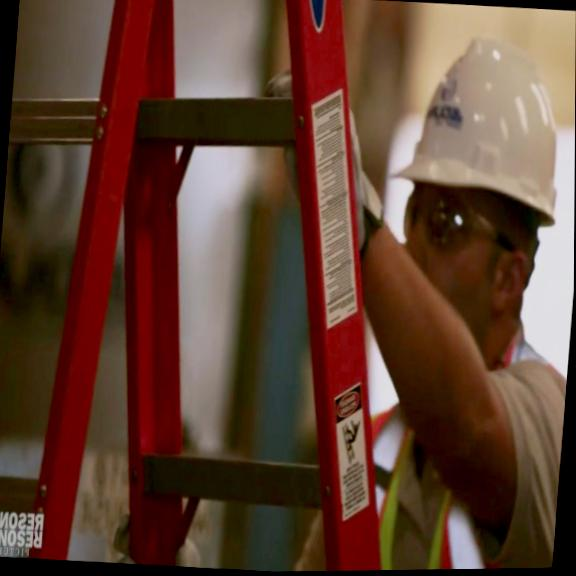safety_vest: (358, 315, 571, 571)
